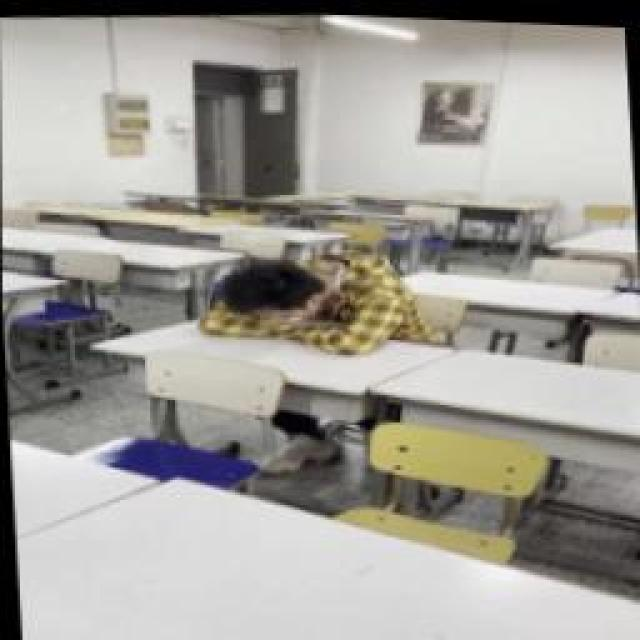sleep: (192, 238, 440, 360)
